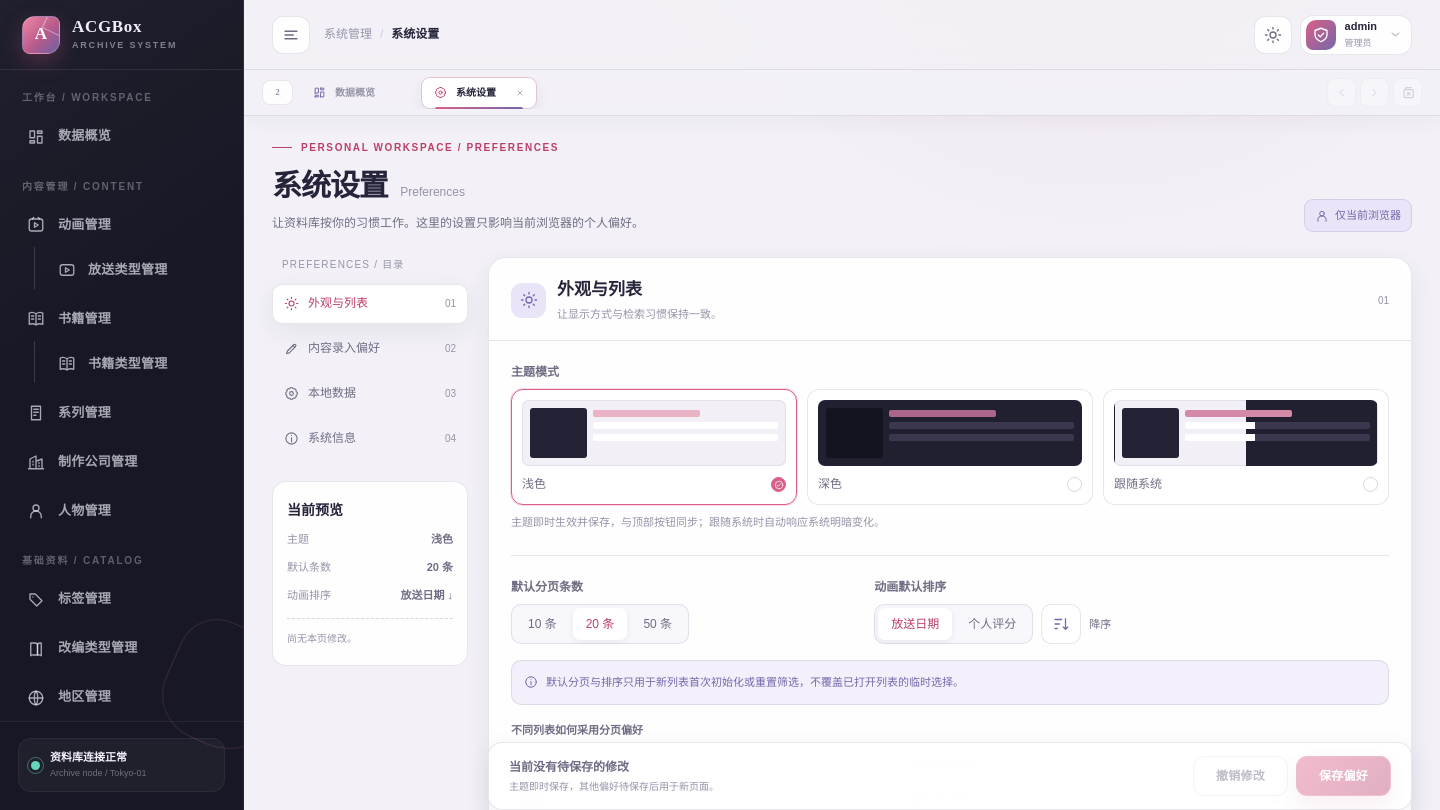
系统设置页面 › 顶部主题和设置选项同步，支持跟随系统，保存失败保留草稿
The image size is (1440, 810).
Click the button "深色" at coordinates (950, 447), box [807, 389, 1093, 505]
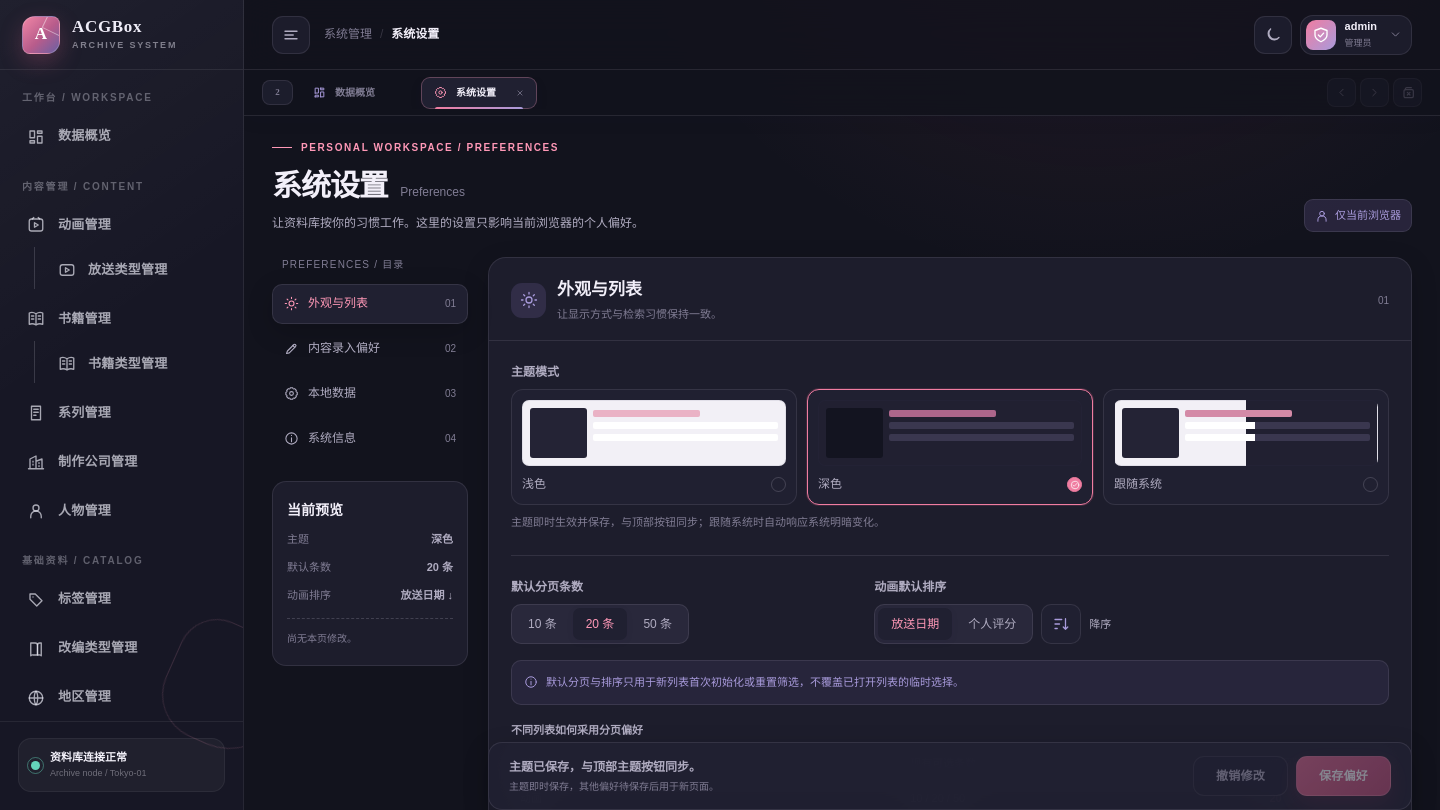
Click the button named "当前主题：深色，点击切换主题模式" at coordinates (1273, 34), box [1254, 16, 1292, 54]
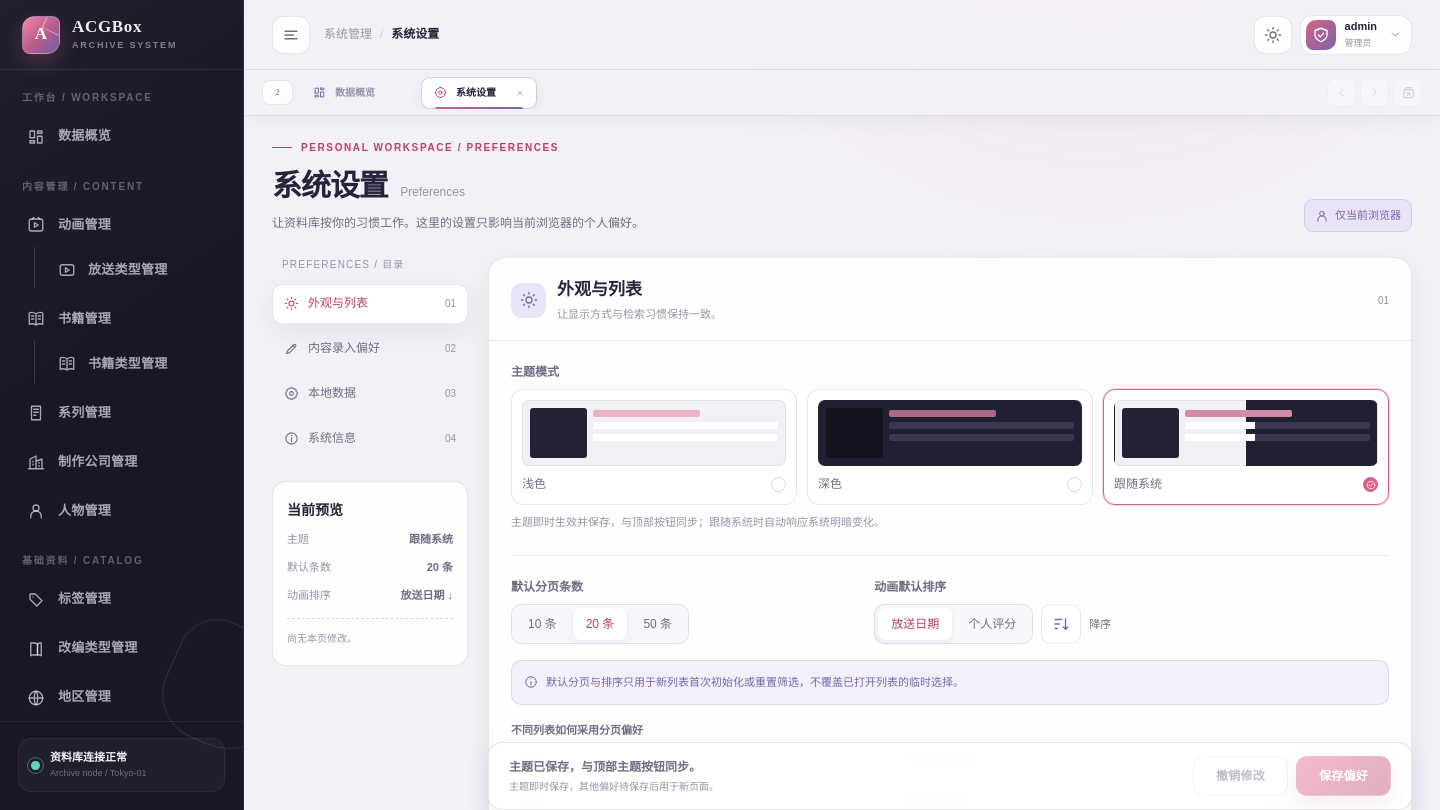
Result: the button "跟随系统" is pressed at [1103, 389, 1389, 505]
Click the button "50 条" at coordinates (658, 624), box [630, 608, 685, 640]
(page scrolled)
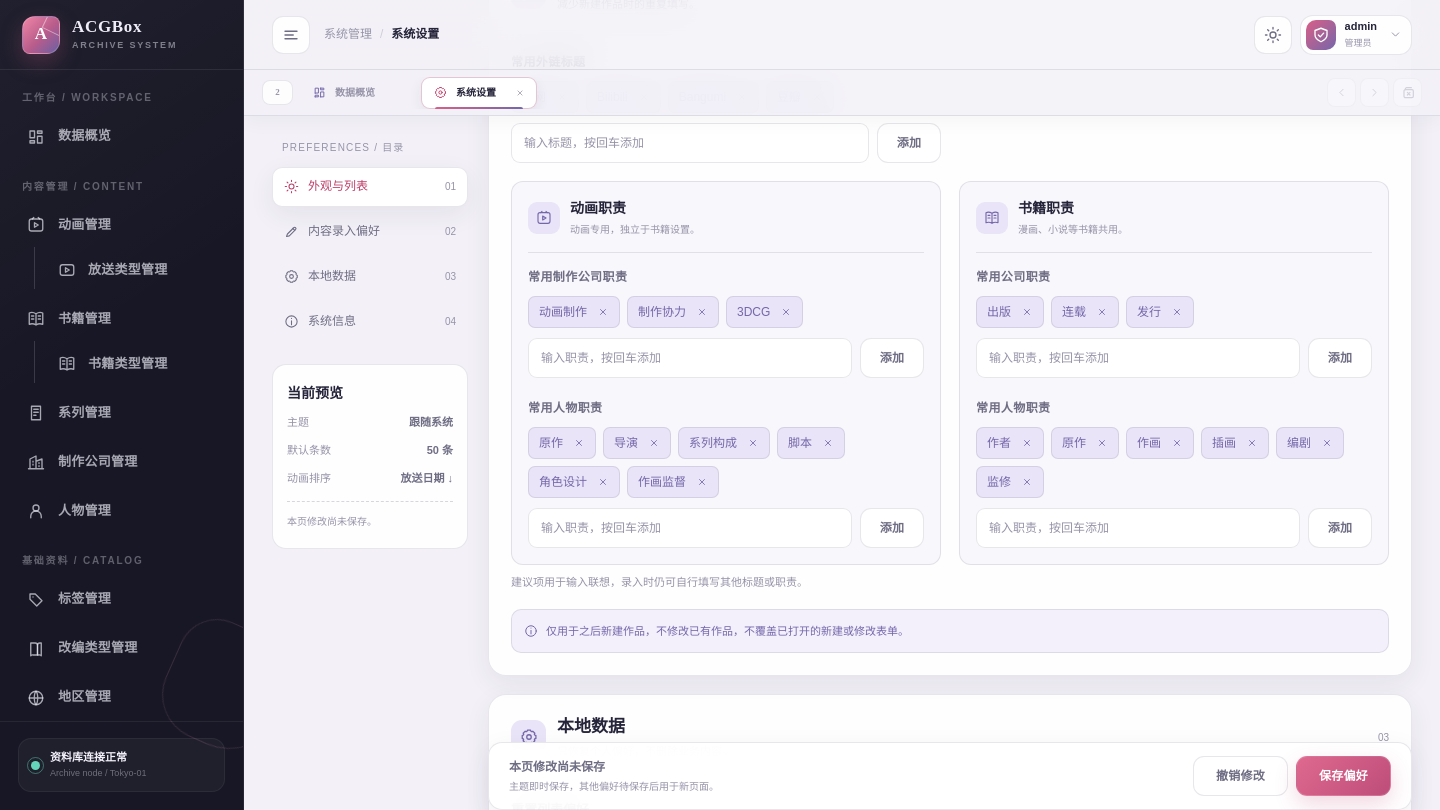
Submit the form with class "settings-form"
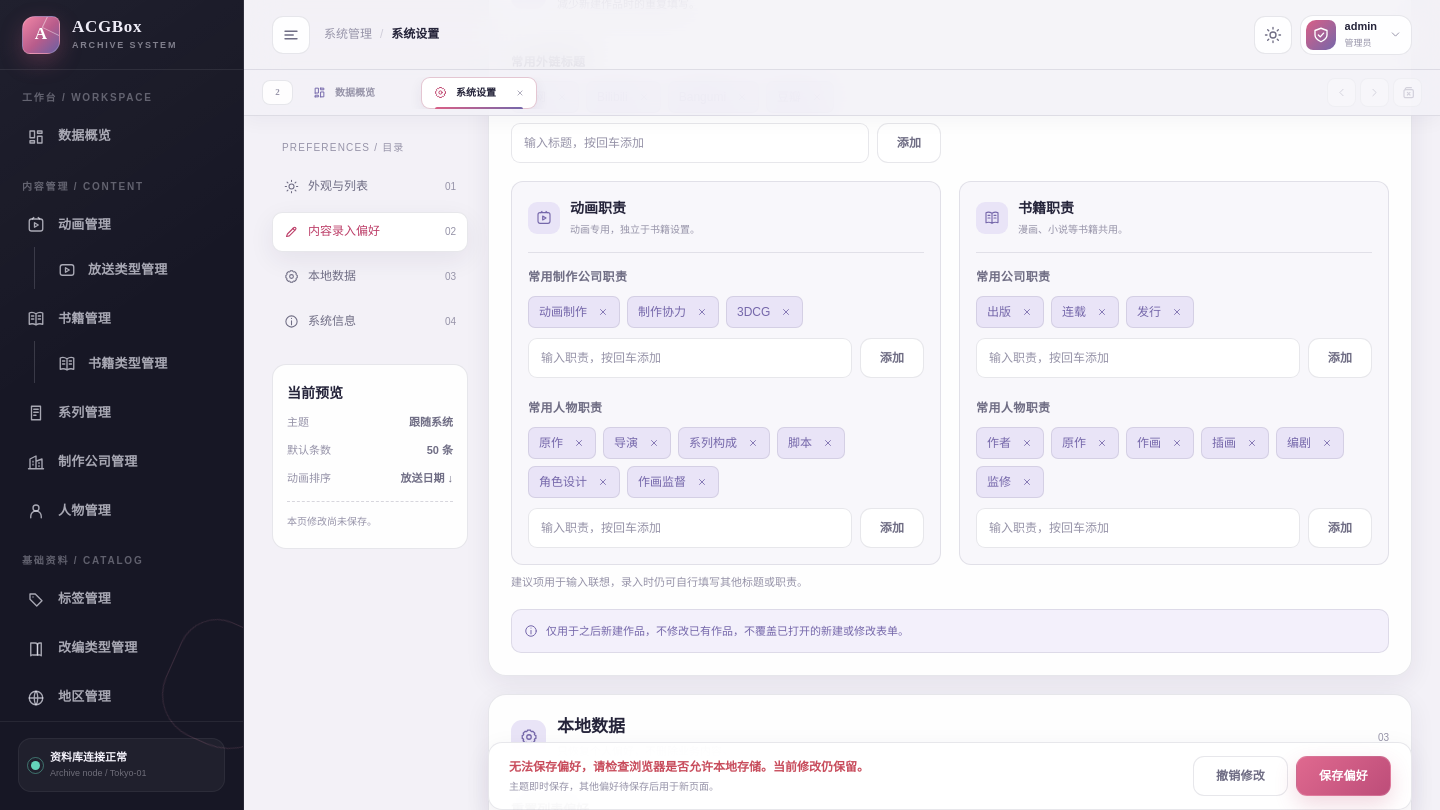
Result: the button with id "saveSettings" is enabled at [1296, 756, 1391, 796]
Result: the message with class "save-status" shows "无法保存偏好" at [509, 760, 869, 774]
